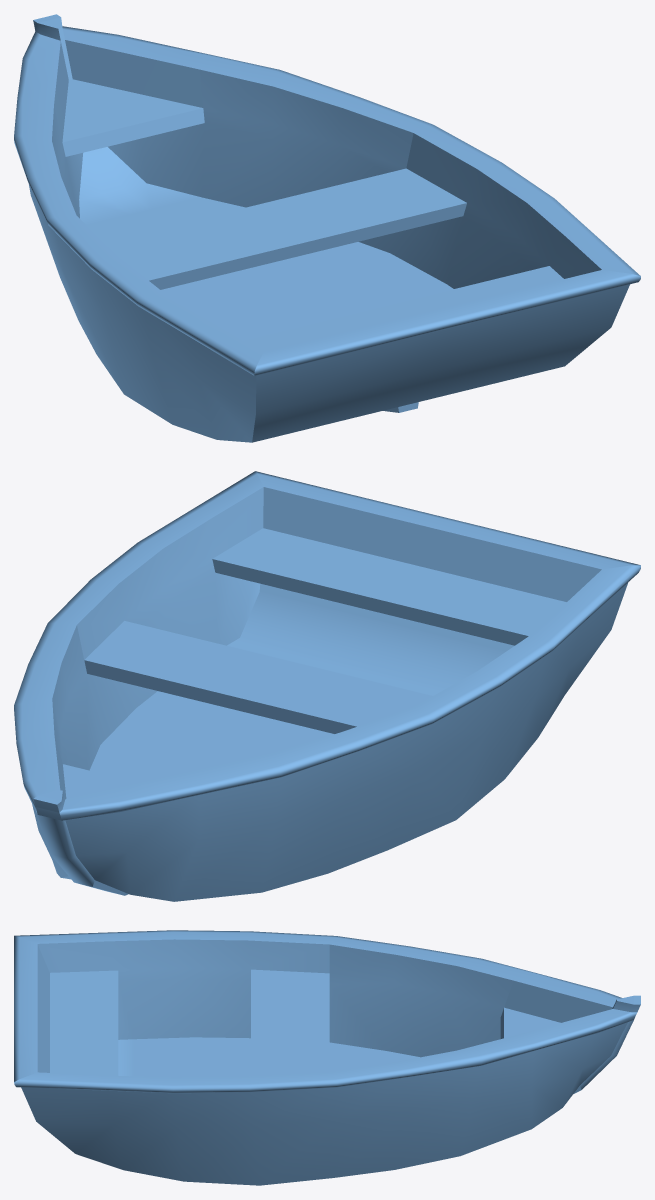
The model's file is Barca001.fbx.
3 renders of one model, top to bottom at view 1: azimuth 30°, elevation 25°; view 2: azimuth 150°, elevation 25°; view 3: azimuth 270°, elevation 25°, orthographic. The views are drawn at different scales.
Visible parts, largest first — view 1: Barca001; view 2: Barca001; view 3: Barca001.
Part boxes in pixels (x1=…): Barca001: x1=14, y1=14, x2=640, y2=442; Barca001: x1=14, y1=471, x2=640, y2=901; Barca001: x1=14, y1=930, x2=640, y2=1185.
Bounding box in the file's own units: 160 × 60.06 × 268.
